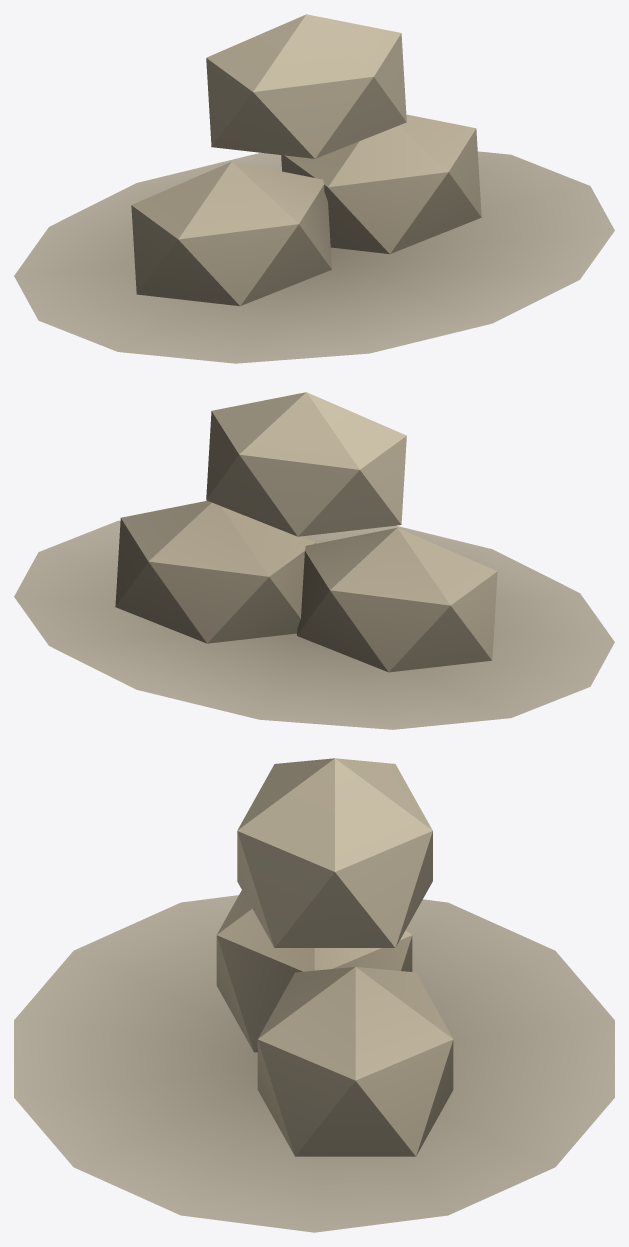
Rendered from sacks.glb.
3 views of the same model, one above another, from view 1: azimuth 30°, elevation 25°; view 2: azimuth 150°, elevation 25°; view 3: azimuth 270°, elevation 25° (orthographic). The views are drawn at different scales.
Visible parts, largest first — view 1: sacks; view 2: sacks; view 3: sacks.
Part boxes in pixels (box(x1,y1,x2,y2)): sacks: box(14, 14, 614, 363); sacks: box(14, 392, 614, 729); sacks: box(14, 758, 614, 1232).
Size of the model in its own units: 2 by 0.8325 by 1.46.
